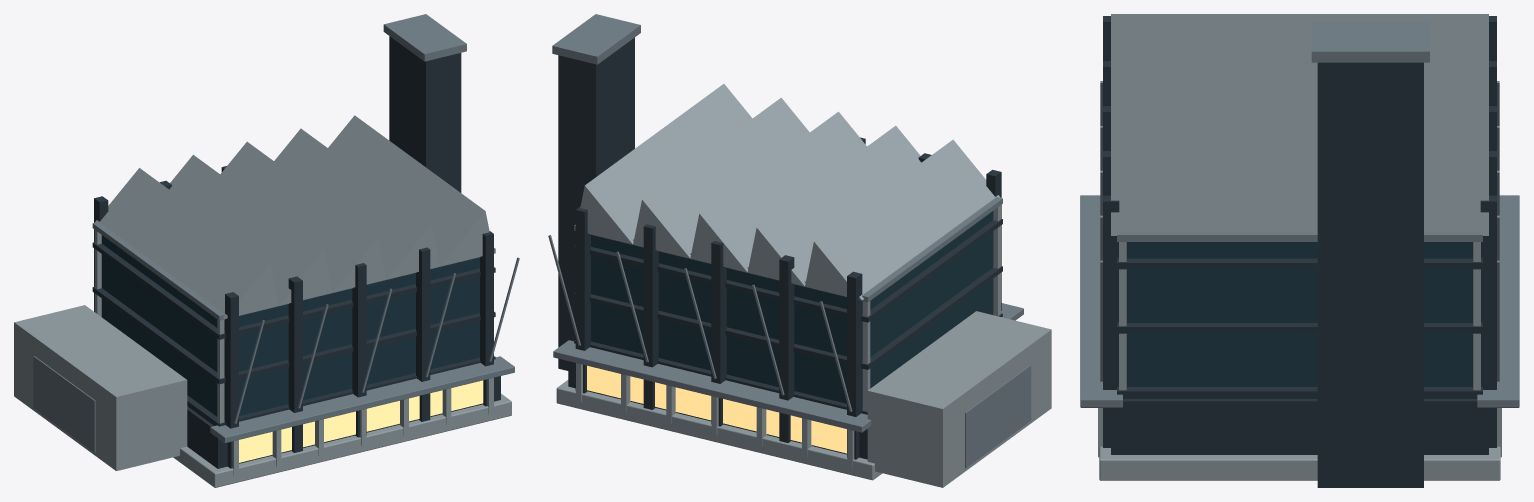
Rendered from vrx_city_works_b_LOD0.fbx.
3 renders of one model, left to right at view 1: azimuth 30°, elevation 25°; view 2: azimuth 150°, elevation 25°; view 3: azimuth 270°, elevation 25°, orthographic. The views are drawn at different scales.
Parts seen in each view (by area): view 1: vrx_city_works_b_LOD0; view 2: vrx_city_works_b_LOD0; view 3: vrx_city_works_b_LOD0.
Boxes of the visible parts, x1=… form: vrx_city_works_b_LOD0: x1=14, y1=14, x2=519, y2=487; vrx_city_works_b_LOD0: x1=548, y1=14, x2=1051, y2=487; vrx_city_works_b_LOD0: x1=1080, y1=14, x2=1519, y2=487.
Bounding box in the file's own units: 55.17 × 42 × 37.2.
